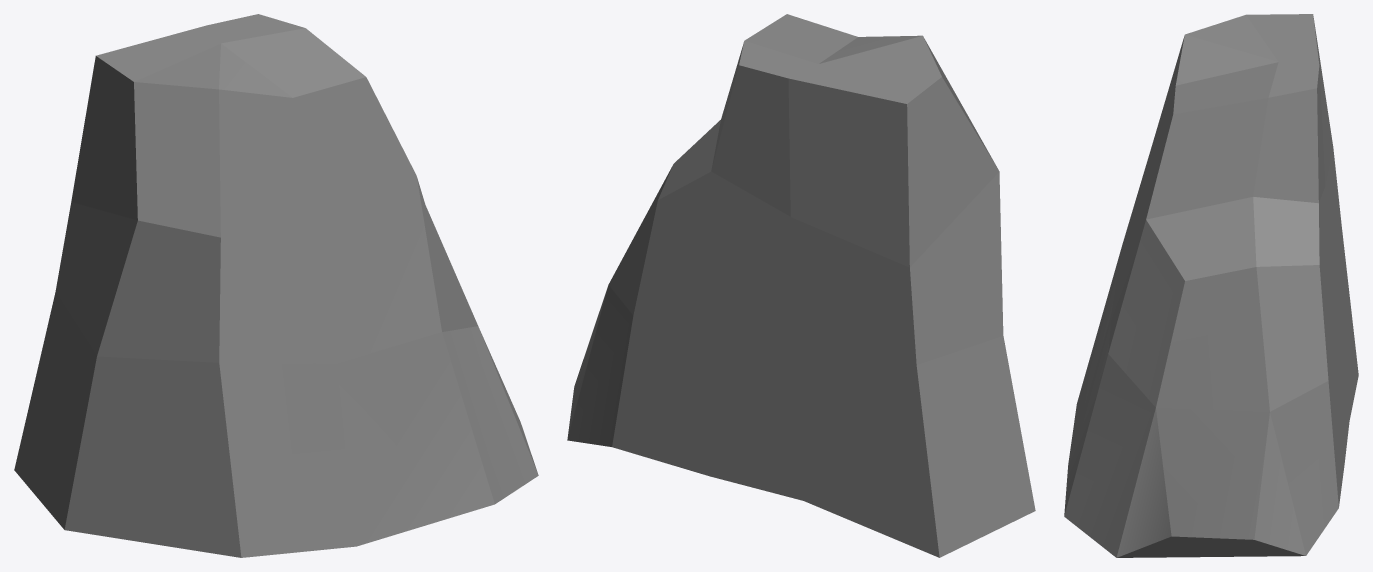
File: HardRock_08.fbx
The picture shows the model from 3 angles, left to right: view 1: azimuth 30°, elevation 25°; view 2: azimuth 150°, elevation 25°; view 3: azimuth 270°, elevation 25°; orthographic projection. The views are drawn at different scales.
Parts seen in each view (by area): view 1: HardRock_08; view 2: HardRock_08; view 3: HardRock_08.
Part boxes in pixels (bbox=[...]): HardRock_08: bbox=[14, 14, 538, 557]; HardRock_08: bbox=[567, 14, 1035, 557]; HardRock_08: bbox=[1064, 14, 1358, 557].
Size of the model in its own units: 136 by 126 by 84.85.
